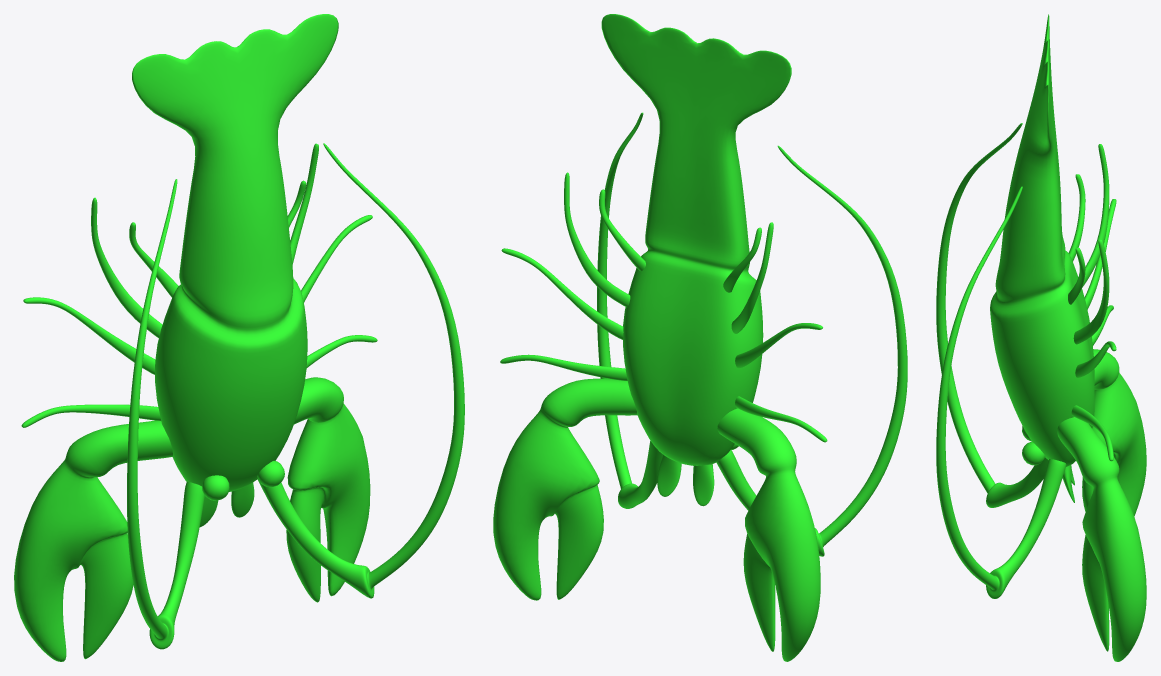
File: Lobster.obj
3 renders of one model, left to right at view 1: azimuth 30°, elevation 25°; view 2: azimuth 150°, elevation 25°; view 3: azimuth 270°, elevation 25°, orthographic. The views are drawn at different scales.
Parts seen in each view (by area): view 1: Lobster; view 2: Lobster; view 3: Lobster.
Boxes of the visible parts, x1,y1,x2,y2 form: Lobster: [14, 14, 464, 661]; Lobster: [493, 14, 907, 661]; Lobster: [936, 14, 1146, 661].
Bounding box in the file's own units: 0.5993 × 1 × 0.3481.
